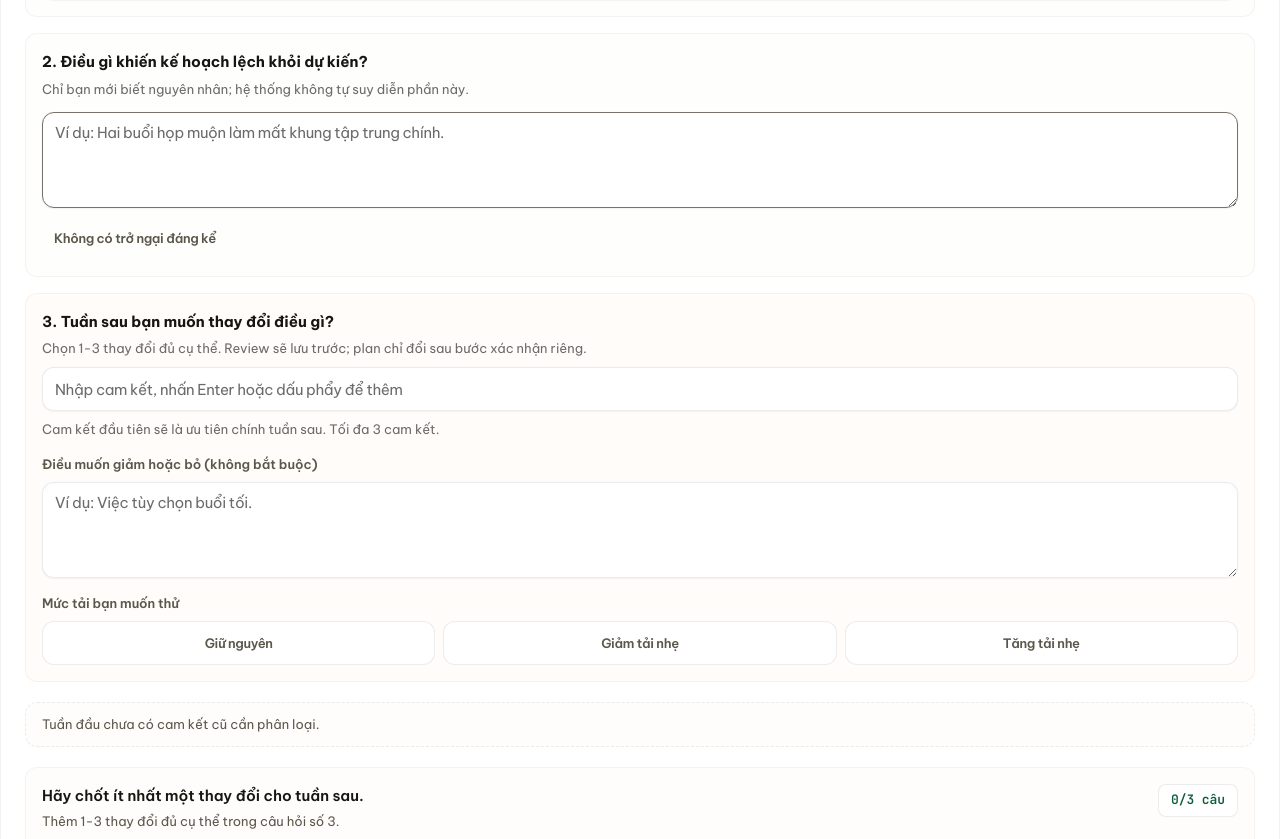
it: TwelveWeekWeekTab review flow › caps next-week commitments at three
The width and height of the screenshot is (1280, 839).
(page scrolled)
Type "Plan 1,Plan 2,Plan 3,Plan 4," into the field labelled "3. Tuần sau bạn muốn thay đổi điều gì?".
click(640, 390); type("Plan 1,Plan 2,Plan 3,Plan 4,")  # box [42,368,1238,412]
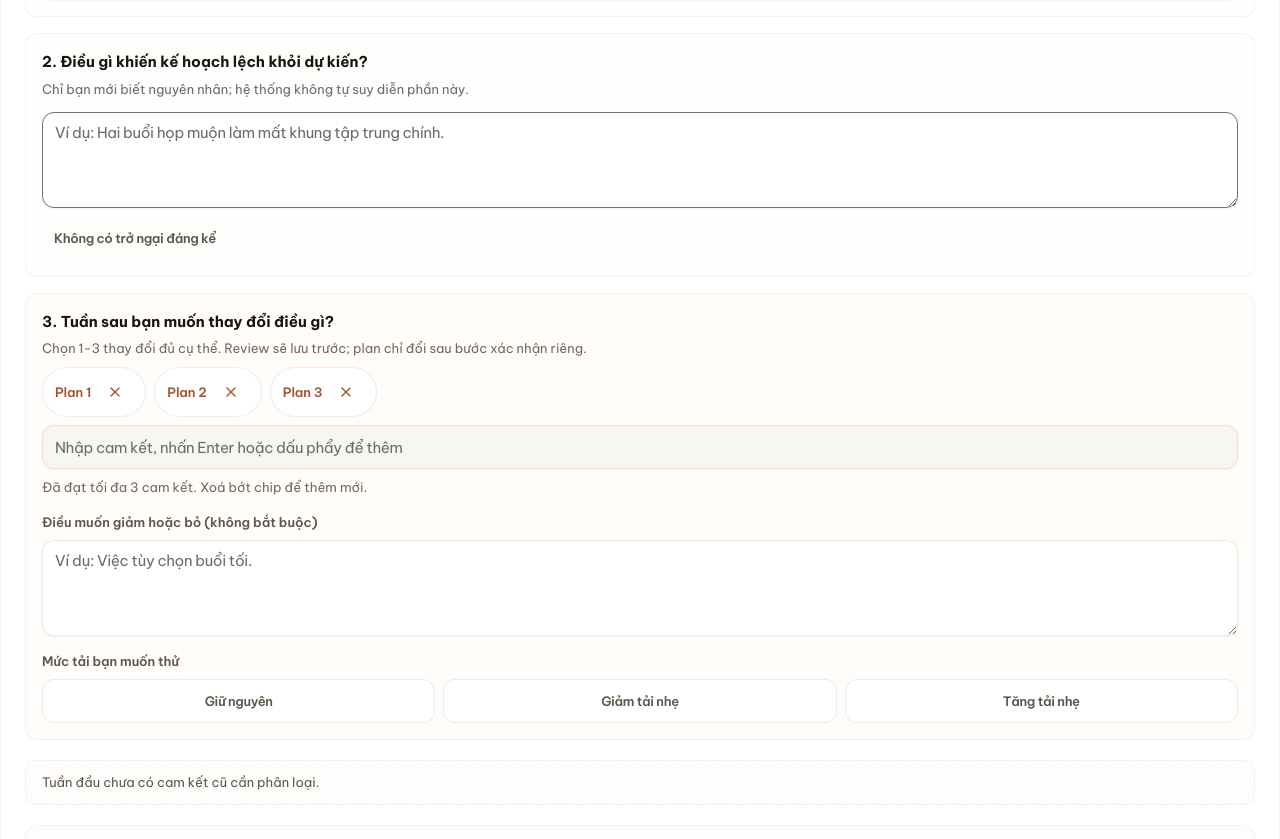
Result: the element named "Cam kết: Plan 3" is shown at [270,368,378,418]
Result: the field labelled "3. Tuần sau bạn muốn thay đổi điều gì?" is disabled at [42,426,1238,470]
Result: the text "Đã đạt tối đa 3 cam kết. Xoá bớt chip để thêm mới." is shown at [42,480,367,496]
